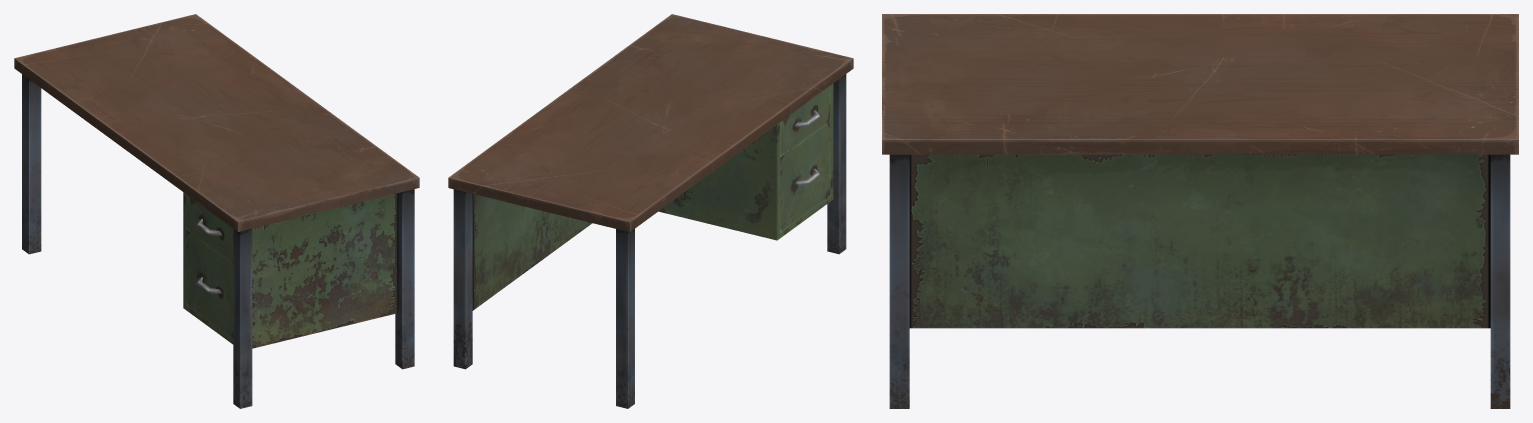
Rendered from desk01_B.FBX.
3 renders of one model, left to right at view 1: azimuth 30°, elevation 25°; view 2: azimuth 150°, elevation 25°; view 3: azimuth 270°, elevation 25°, orthographic. The views are drawn at different scales.
Parts seen in each view (by area): view 1: desk01_B, desk01_B_drawer01, desk01_B_drawer02; view 2: desk01_B, desk01_B_drawer01, desk01_B_drawer02; view 3: desk01_B.
Boxes of the visible parts, box(x1,y1,x2,y2) form: desk01_B: box(14, 14, 419, 408); desk01_B_drawer01: box(186, 229, 233, 339); desk01_B_drawer02: box(186, 194, 233, 263); desk01_B: box(448, 14, 853, 408); desk01_B_drawer01: box(780, 121, 830, 233); desk01_B_drawer02: box(780, 86, 830, 156); desk01_B: box(882, 14, 1518, 408).
Size of the model in its own units: 75 by 75 by 160.
